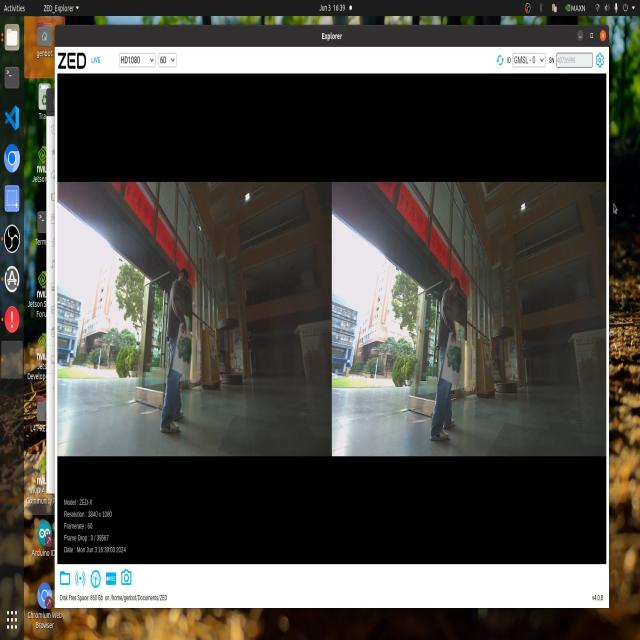green: (444, 342, 469, 381), (175, 331, 194, 372)
